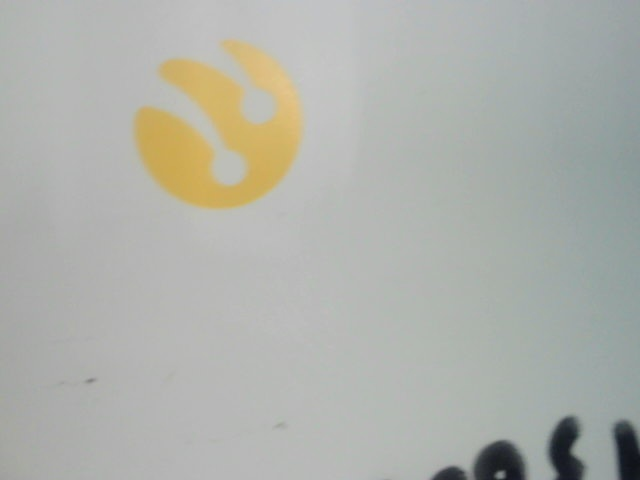AV_H3600Yellow: (113, 37, 317, 215)
